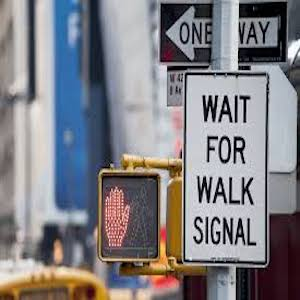red: (101, 182, 130, 247)
